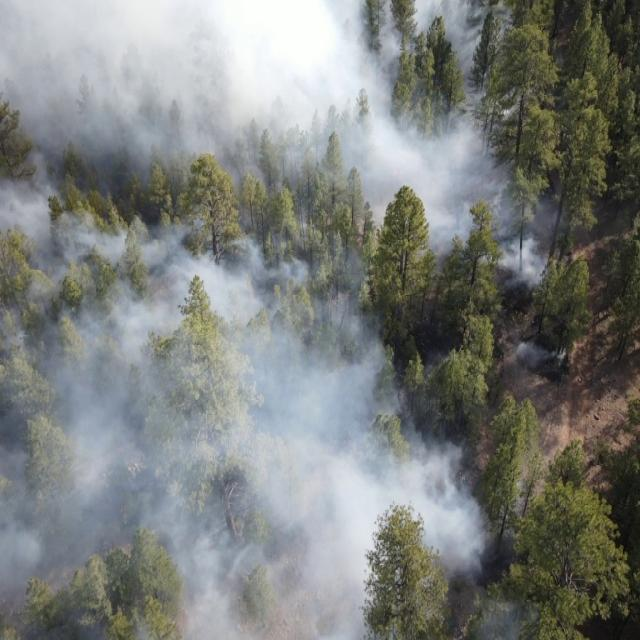smoke: (0, 0, 513, 286), (0, 286, 401, 640), (401, 444, 494, 590), (513, 190, 576, 294), (400, 354, 456, 444), (494, 482, 530, 578), (477, 601, 540, 640), (514, 342, 568, 374)
